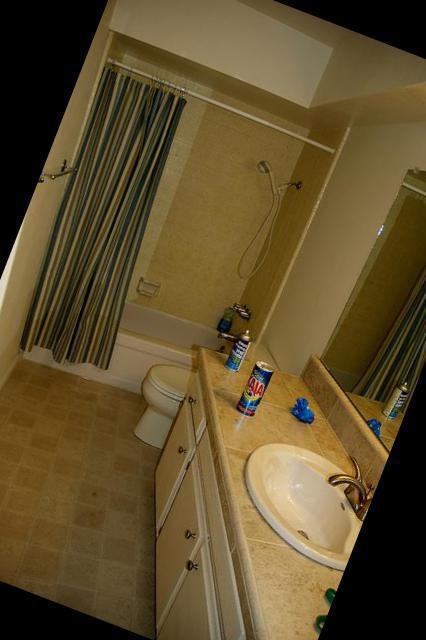Lavamanos: (214, 412, 380, 575)
Sanitario: (108, 310, 282, 489)
